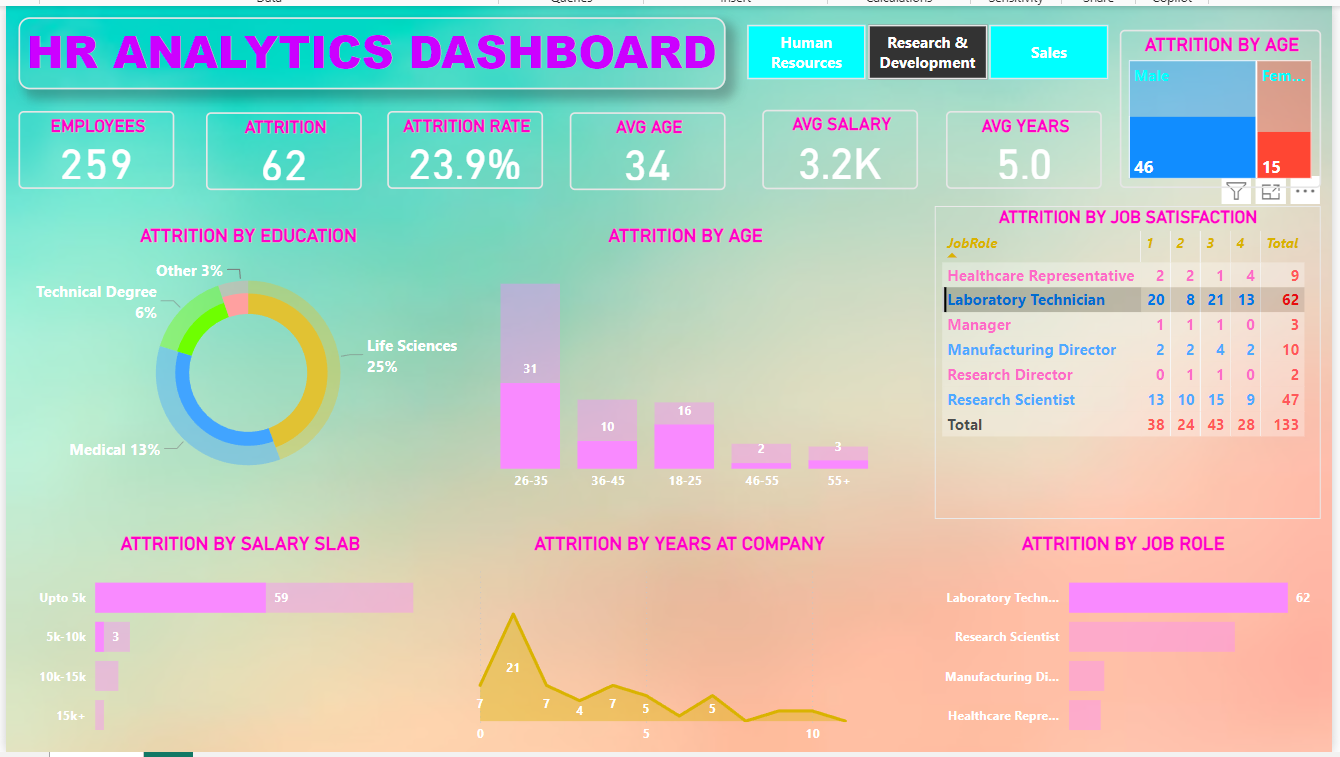

The dashboard page shown, as its layout file describes it:
{"tool":"powerbi","page":{"name":"Page 1","canvas":[1280,720],"ordinal":0},"visuals":[{"type":"card","title":"EMPLOYEES","fields":{"Values":["CountNonNull(HR_Analytics.EmpID)"]},"box":[11.7,101.6,150.3,75.1],"z":0},{"type":"card","title":"ATTRITION","fields":{"Values":["Sum(HR_Analytics.AttritionCount)"]},"box":[193,102.3,150.3,75.1],"z":1000},{"type":"card","title":"ATTRITION RATE","fields":{"Values":["HR_Analytics.AttritionRate"]},"box":[367.9,101.1,150.3,75.1],"z":2000},{"type":"card","title":"AVG AGE","fields":{"Values":["Avg(HR_Analytics.Age)"]},"box":[544.1,102.3,150.3,75.1],"z":3000},{"type":"card","title":"AVG SALARY","fields":{"Values":["Avg(HR_Analytics.MonthlyIncome)"]},"box":[729.4,99.8,150.3,76.4],"z":4000},{"type":"card","title":"AVG YEARS","fields":{"Values":["Avg(HR_Analytics.YearsAtCompany)"]},"box":[906.9,101.1,150.3,75.1],"z":5000},{"type":"donutChart","title":"ATTRITION BY EDUCATION","fields":{"Category":["HR_Analytics.EducationField"],"Y":["Sum(HR_Analytics.AttritionCount)"]},"box":[25.9,211.2,417.2,265.6],"z":6000},{"type":"columnChart","title":"ATTRITION BY AGE","fields":{"Category":["HR_Analytics.AgeGroup"],"Y":["Sum(HR_Analytics.AttritionCount)"]},"box":[443.1,211.2,426.2,265.6],"z":7000},{"type":"pivotTable","title":"ATTRITION BY JOB SATISFACTION","fields":{"Rows":["HR_Analytics.JobRole"],"Columns":["HR_Analytics.JobSatisfaction"],"Values":["Sum(HR_Analytics.AttritionCount)"]},"box":[896.5,193,373.1,301.9],"z":8000},{"type":"barChart","title":"ATTRITION BY SALARY SLAB","fields":{"Category":["HR_Analytics.SalarySlab"],"Y":["Sum(HR_Analytics.AttritionCount)"]},"box":[25.9,507.9,401.6,212.5],"z":9000},{"type":"barChart","title":"ATTRITION BY JOB ROLE","fields":{"Category":["HR_Analytics.JobRole"],"Y":["Sum(HR_Analytics.AttritionCount)"]},"box":[888.7,507.9,378.3,212.5],"z":10000},{"type":"stackedAreaChart","title":"ATTRITION BY YEARS AT COMPANY","fields":{"Category":["HR_Analytics.YearsAtCompany"],"Y":["Sum(HR_Analytics.AttritionCount)"]},"box":[443.1,507.9,414.6,212.5],"z":11000},{"type":"treemap","title":"ATTRITION BY AGE","fields":{"Group":["HR_Analytics.Gender"],"Values":["Sum(HR_Analytics.AttritionCount)"]},"box":[1075.3,23.3,194.3,152.9],"z":12000},{"type":"slicer","fields":{"Values":["HR_Analytics.Department"]},"box":[689.2,10.4,399,67.4],"z":13000},{"type":"textbox","box":[11.7,10.4,682.8,70],"z":14000}]}

Visuals, with their boxes on the page's 1280x720 design canvas (x1, y1, x2, y2). These are canvas units, not pixel positions in the 1340x757 screenshot, which may show the page scaled, cropped or inside an application window:
"EMPLOYEES" card: l=12, t=102, r=162, b=177
"ATTRITION" card: l=193, t=102, r=343, b=177
"ATTRITION RATE" card: l=368, t=101, r=518, b=176
"AVG AGE" card: l=544, t=102, r=694, b=177
"AVG SALARY" card: l=729, t=100, r=880, b=176
"AVG YEARS" card: l=907, t=101, r=1057, b=176
"ATTRITION BY EDUCATION" donutChart: l=26, t=211, r=443, b=477
"ATTRITION BY AGE" columnChart: l=443, t=211, r=869, b=477
"ATTRITION BY JOB SATISFACTION" pivotTable: l=896, t=193, r=1270, b=495
"ATTRITION BY SALARY SLAB" barChart: l=26, t=508, r=428, b=720
"ATTRITION BY JOB ROLE" barChart: l=889, t=508, r=1267, b=720
"ATTRITION BY YEARS AT COMPANY" stackedAreaChart: l=443, t=508, r=858, b=720
"ATTRITION BY AGE" treemap: l=1075, t=23, r=1270, b=176
slicer - HR_Analytics.Department: l=689, t=10, r=1088, b=78
textbox: l=12, t=10, r=694, b=80
